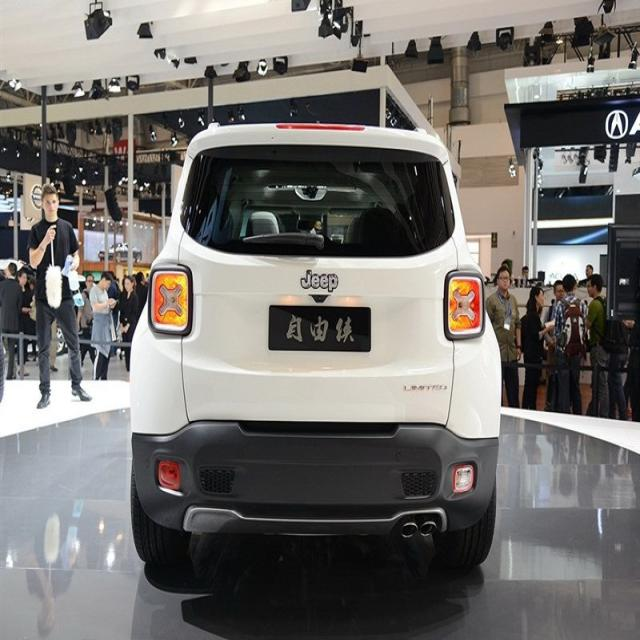back_glass: (179, 142, 455, 260)
back_left_side_light: (150, 263, 192, 337)
back_right_side_light: (446, 270, 484, 336)
rear_bumper: (128, 420, 502, 533)
